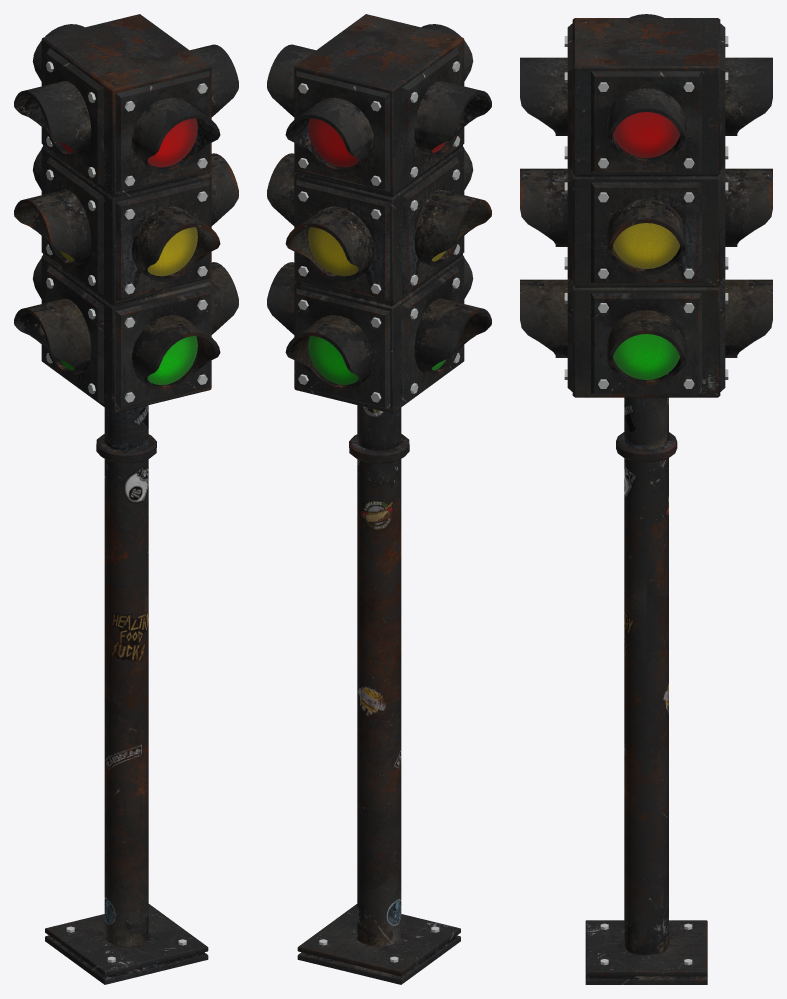
File: Prop_TrafficLight.fbx
The picture shows the model from 3 angles, left to right: view 1: azimuth 30°, elevation 25°; view 2: azimuth 150°, elevation 25°; view 3: azimuth 270°, elevation 25°; orthographic projection. The views are drawn at different scales.
Visible parts, largest first — view 1: Prop_TrafficLight_Metal, Prop_TrafficLight, Prop_TrafficLight_Yellow, Prop_TrafficLight_Red, Prop_TrafficLight_Green; view 2: Prop_TrafficLight_Metal, Prop_TrafficLight, Prop_TrafficLight_Yellow, Prop_TrafficLight_Red, Prop_TrafficLight_Green; view 3: Prop_TrafficLight_Metal, Prop_TrafficLight_Green, Prop_TrafficLight_Yellow, Prop_TrafficLight_Red.
Boxes of the visible parts, box(x1,y1,x2,y2) form: Prop_TrafficLight_Metal: box(14, 14, 238, 984); Prop_TrafficLight: box(147, 118, 216, 387); Prop_TrafficLight_Yellow: box(16, 203, 74, 263); Prop_TrafficLight_Red: box(16, 94, 73, 154); Prop_TrafficLight_Green: box(16, 312, 74, 371); Prop_TrafficLight_Metal: box(267, 14, 491, 984); Prop_TrafficLight: box(289, 118, 358, 387); Prop_TrafficLight_Yellow: box(431, 203, 489, 263); Prop_TrafficLight_Red: box(432, 94, 489, 154); Prop_TrafficLight_Green: box(431, 312, 489, 371); Prop_TrafficLight_Metal: box(520, 14, 772, 984); Prop_TrafficLight_Green: box(611, 334, 681, 382); Prop_TrafficLight_Yellow: box(611, 223, 681, 271); Prop_TrafficLight_Red: box(611, 112, 681, 160).
Bounding box in the file's own units: 35.1 × 159 × 39.75.
